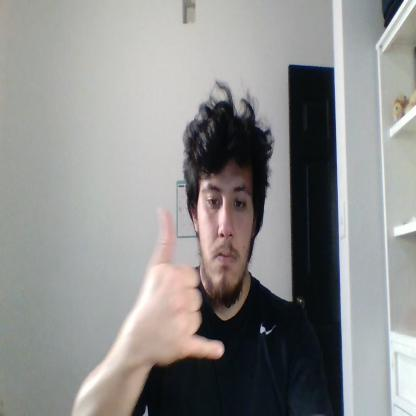Y: (139, 206, 225, 365)
